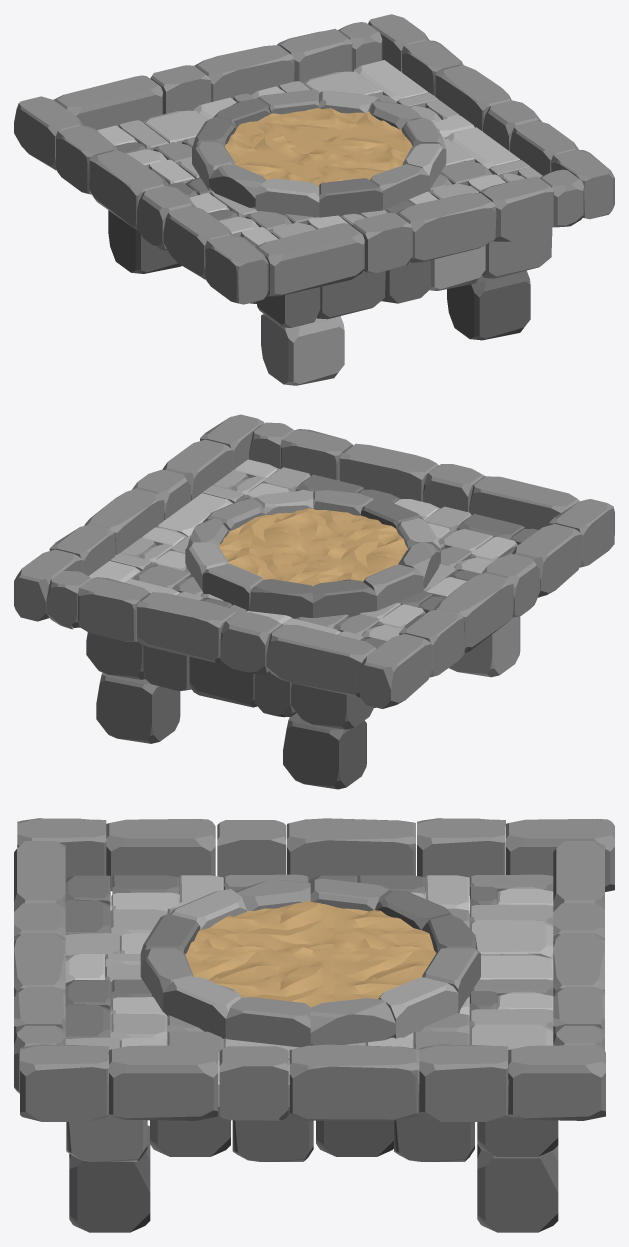
The model's file is treeBaseGround.fbx.
3 views of the same model, one above another, from view 1: azimuth 30°, elevation 25°; view 2: azimuth 150°, elevation 25°; view 3: azimuth 270°, elevation 25° (orthographic). The views are drawn at different scales.
Parts seen in each view (by area): view 1: group9_pasted__polySurface5577; view 2: group9_pasted__polySurface5577; view 3: group9_pasted__polySurface5577.
Part boxes in pixels (x1,y1,x2,y2): group9_pasted__polySurface5577: (14,14,614,385); group9_pasted__polySurface5577: (14,414,614,789); group9_pasted__polySurface5577: (14,818,614,1232).
Bounding box in the file's own units: 1302 × 512 × 1332.
